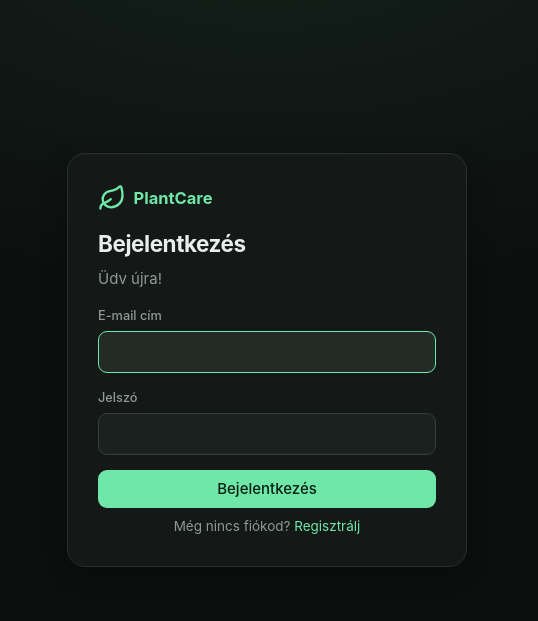
AuthPage (AC1) › shows the server message when the login fails
The width and height of the screenshot is (538, 621).
Type "anna@example.com" into the field labelled "E-mail cím" at (267, 352), box [98,331,436,373]
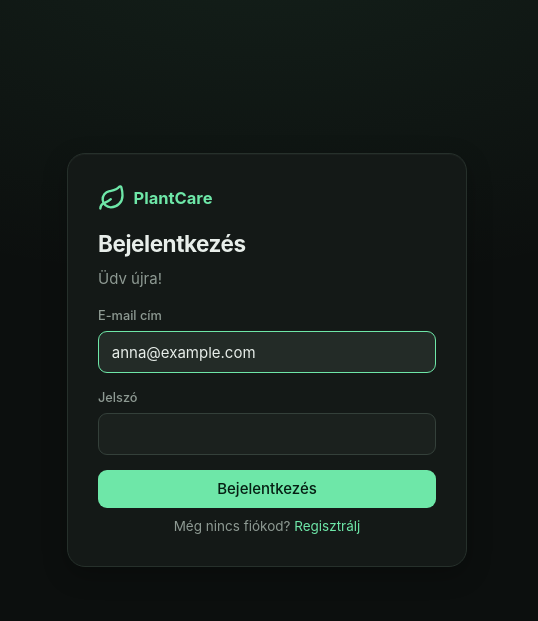
Type "rosszjelszo" into the password field labelled "Jelszó" at (267, 434), box [98,413,436,455]
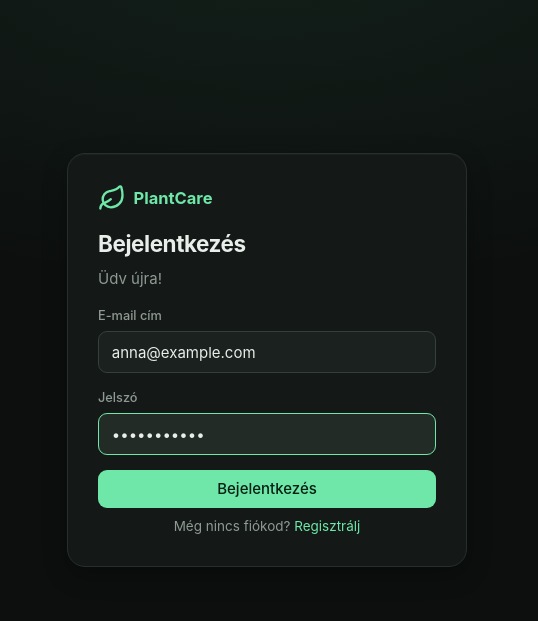
Click the button "Bejelentkezés" at (267, 489), box [98,470,436,508]
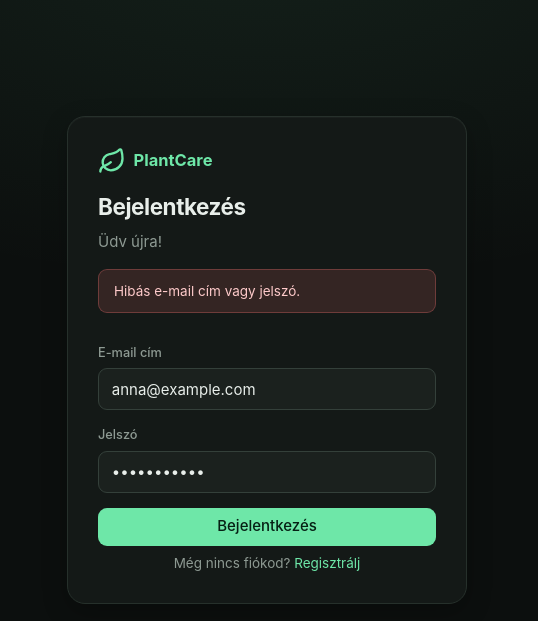
Now the message reads "Hibás e-mail cím vagy jelszó.", box [114,283,300,299]
